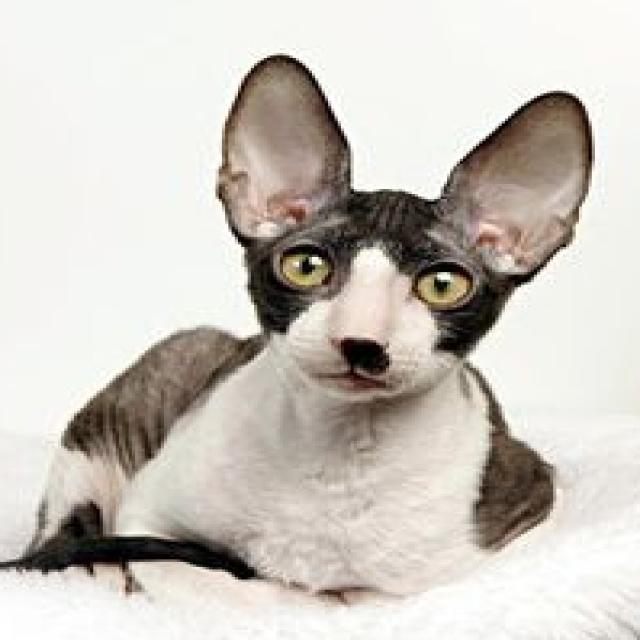Cornish Rex: (0, 40, 601, 604)
